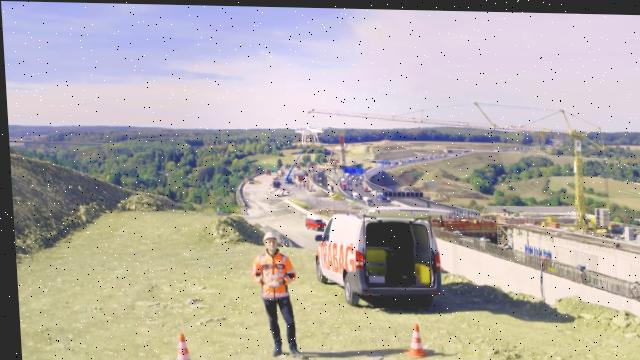drone: (289, 122, 324, 141)
